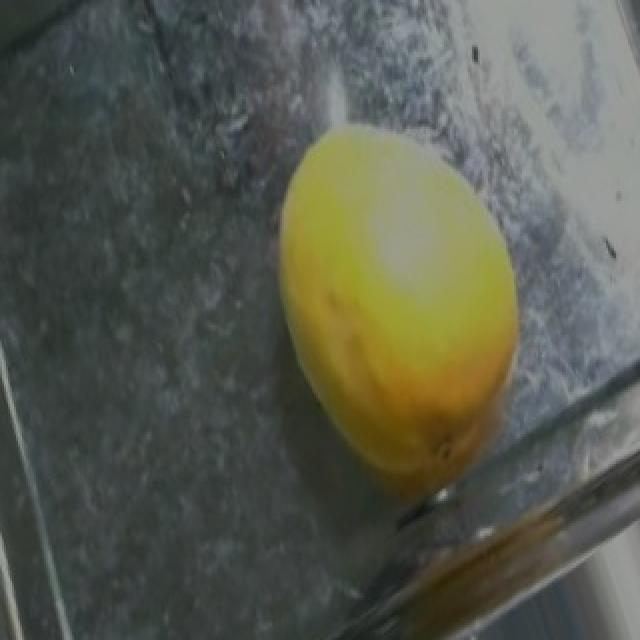fruit: (226, 84, 584, 467)
